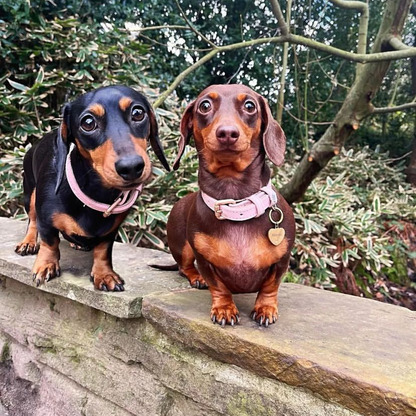dachshund: (179, 79, 314, 342), (26, 74, 169, 305)
